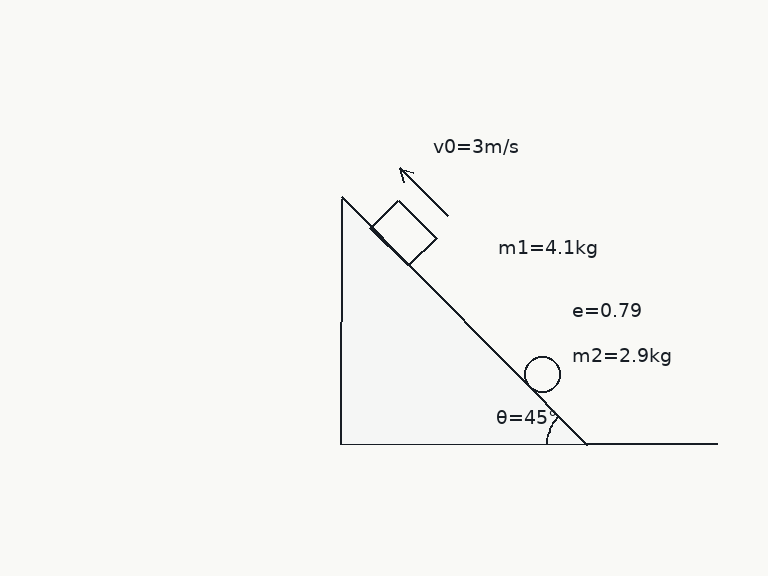ball: (522, 354, 562, 394)
block: (368, 198, 438, 267)
ramp: (339, 196, 589, 446)
